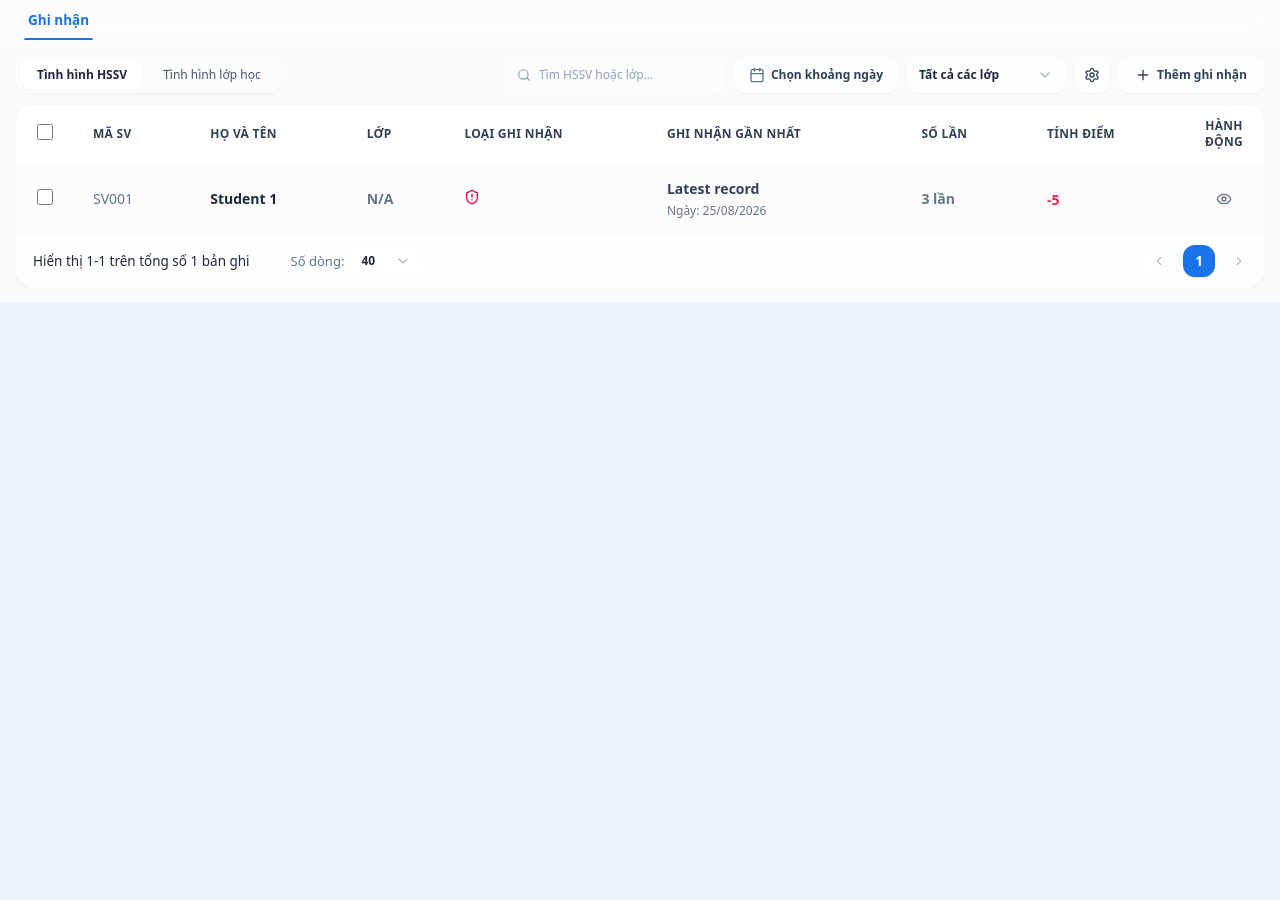
Scenario: StudentRecordPage Infinite Scroll › loads every active student record in either drawer with history context
Click the button titled "Xem chi tiết": (1224, 199) x1=1210 y1=185 x2=1238 y2=213
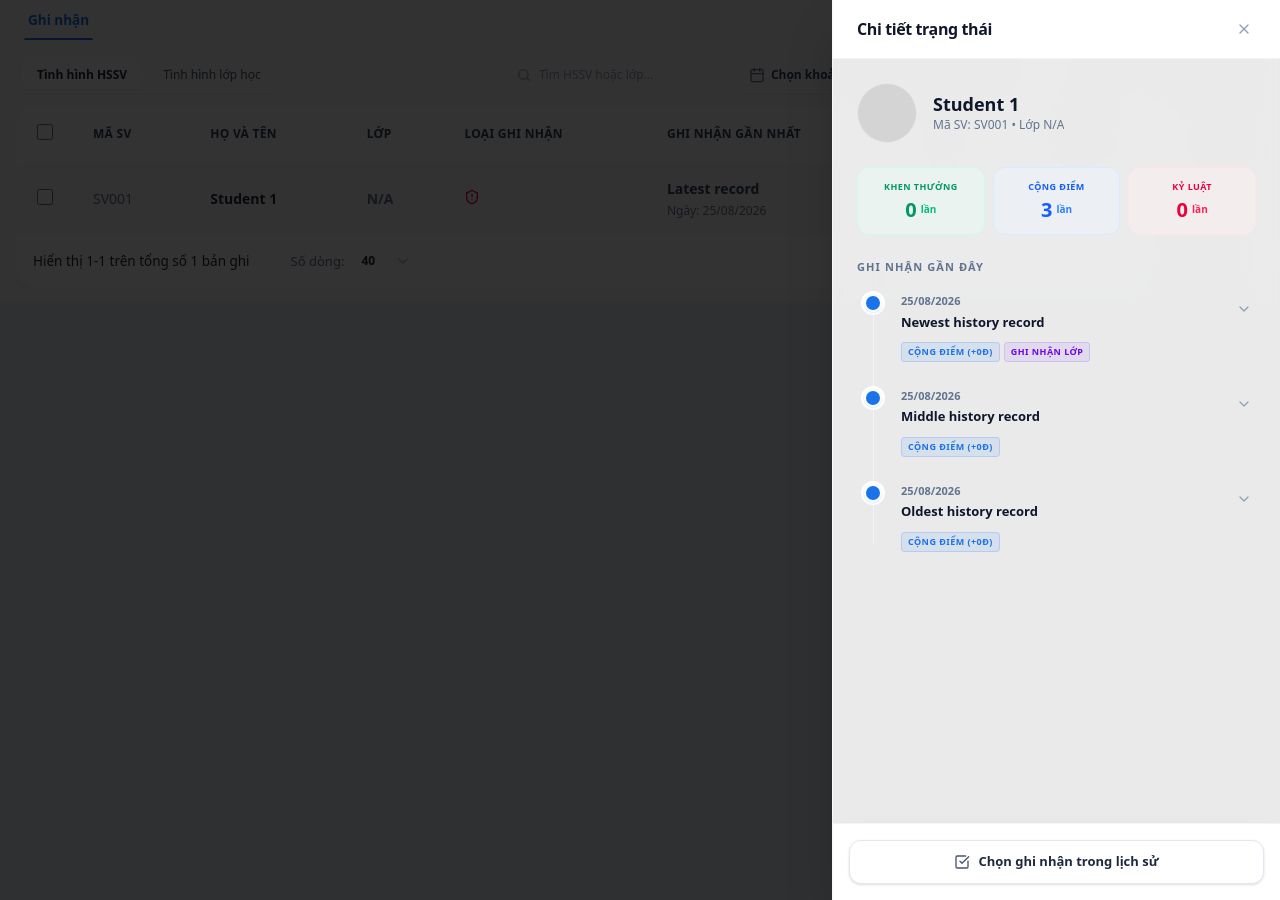
Expected: the text "Newest history record" is shown, x1=901 y1=312 x2=1044 y2=330
Expected: the text "Middle history record" is shown, x1=901 y1=408 x2=1040 y2=426
Expected: the text "Oldest history record" is shown, x1=901 y1=503 x2=1038 y2=521
